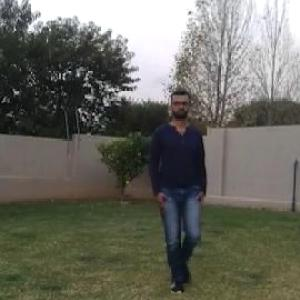follow: (158, 95, 204, 281)
